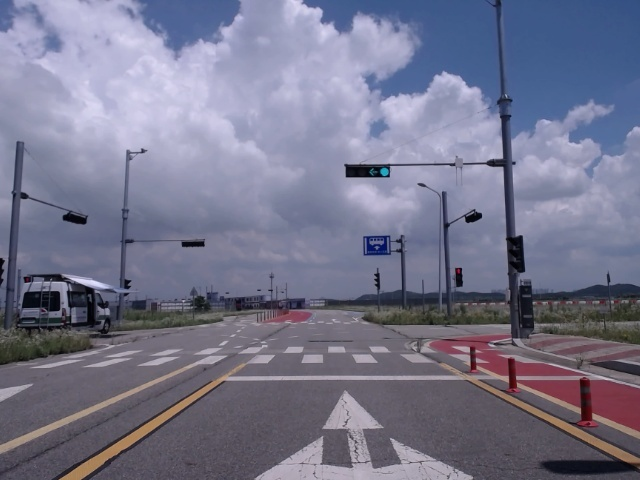all_green_4: (343, 162, 388, 177)
